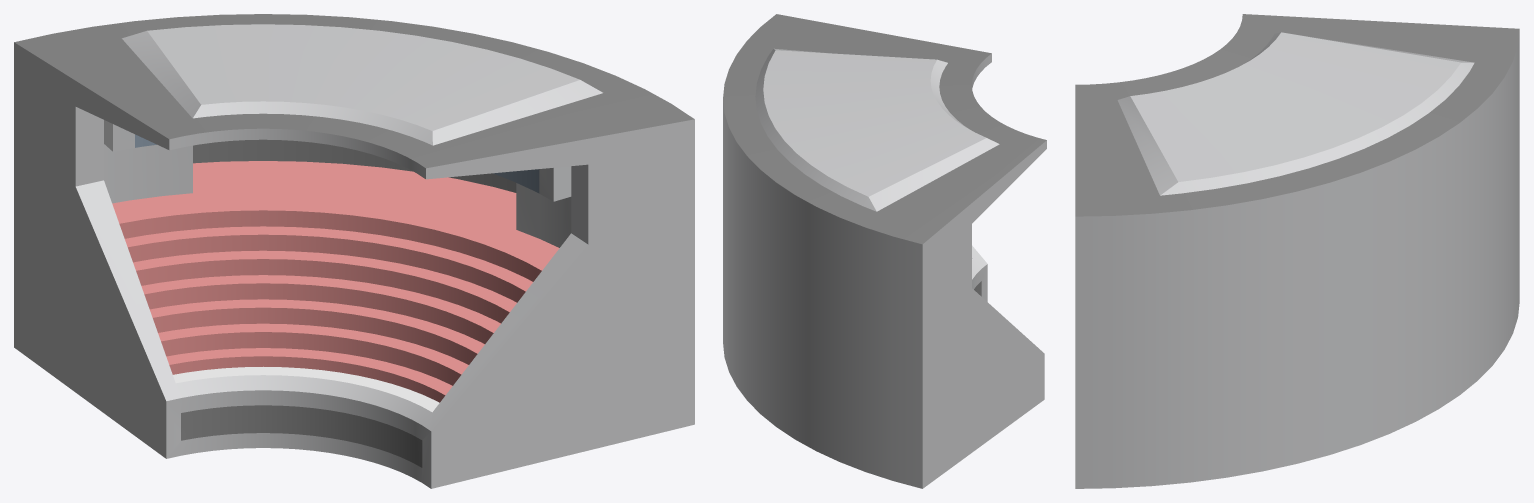
Rendered from grandStandCoveredRound.glb.
The picture shows the model from 3 angles, left to right: view 1: azimuth 30°, elevation 25°; view 2: azimuth 150°, elevation 25°; view 3: azimuth 270°, elevation 25°; orthographic projection. The views are drawn at different scales.
Parts seen in each view (by area): view 1: grandStandCoveredRound(Clone); view 2: grandStandCoveredRound(Clone); view 3: grandStandCoveredRound(Clone).
Part boxes in pixels (x1,y1,x2,y2): grandStandCoveredRound(Clone): (14,14,694,488); grandStandCoveredRound(Clone): (723,14,1046,488); grandStandCoveredRound(Clone): (1075,14,1519,488).
Size of the model in its own units: 1.64 by 1.19 by 1.64.
